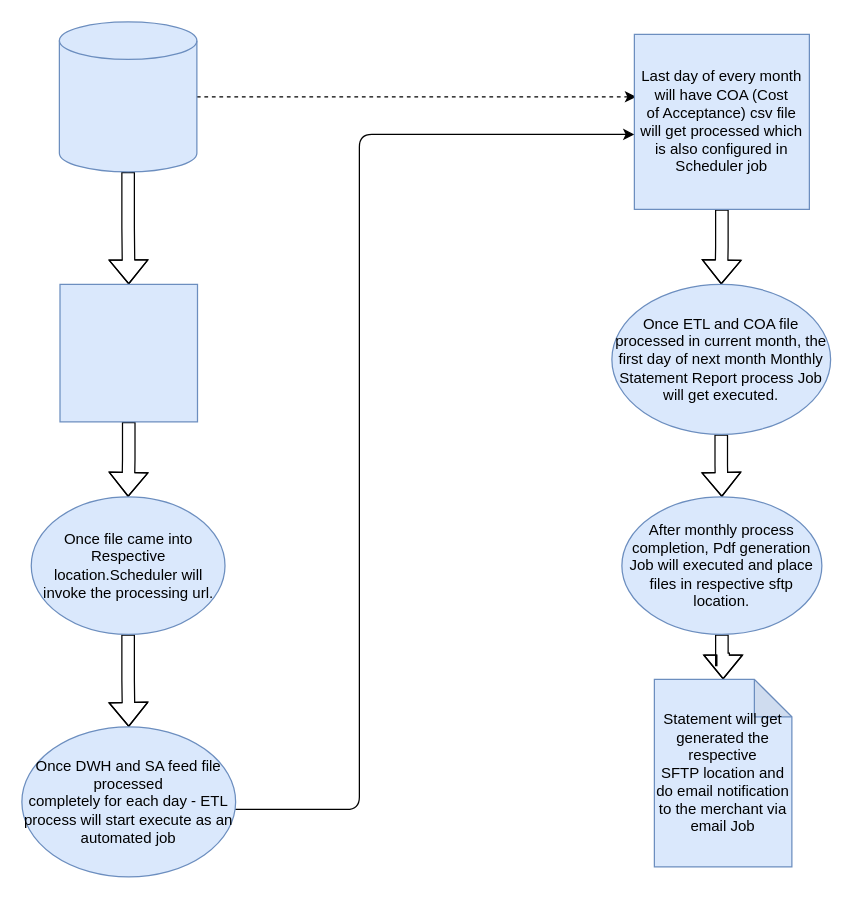
Image size: 853x899. Some labels were removed from this diagram. Here are the shapes that lost their labels. From the top down, the centre of each, then its label:
At (127,96): "Daily DWH file will be placed in the Omnipay SFTP location.".
At (128,352): "Scheduler job will pick up file automatically and placed in the respective SFTP.".
